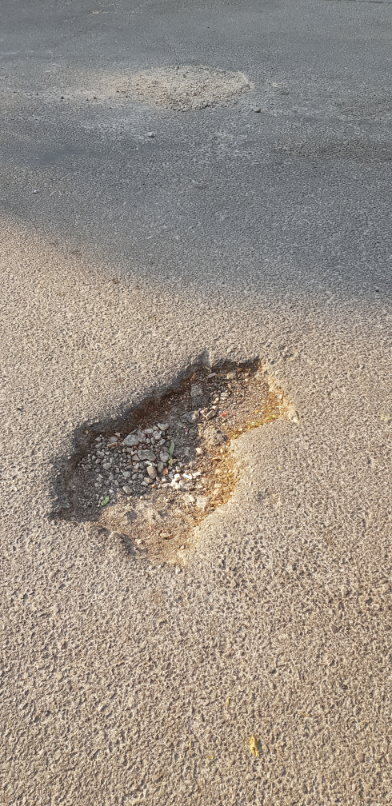pothole: (47, 347, 295, 567)
